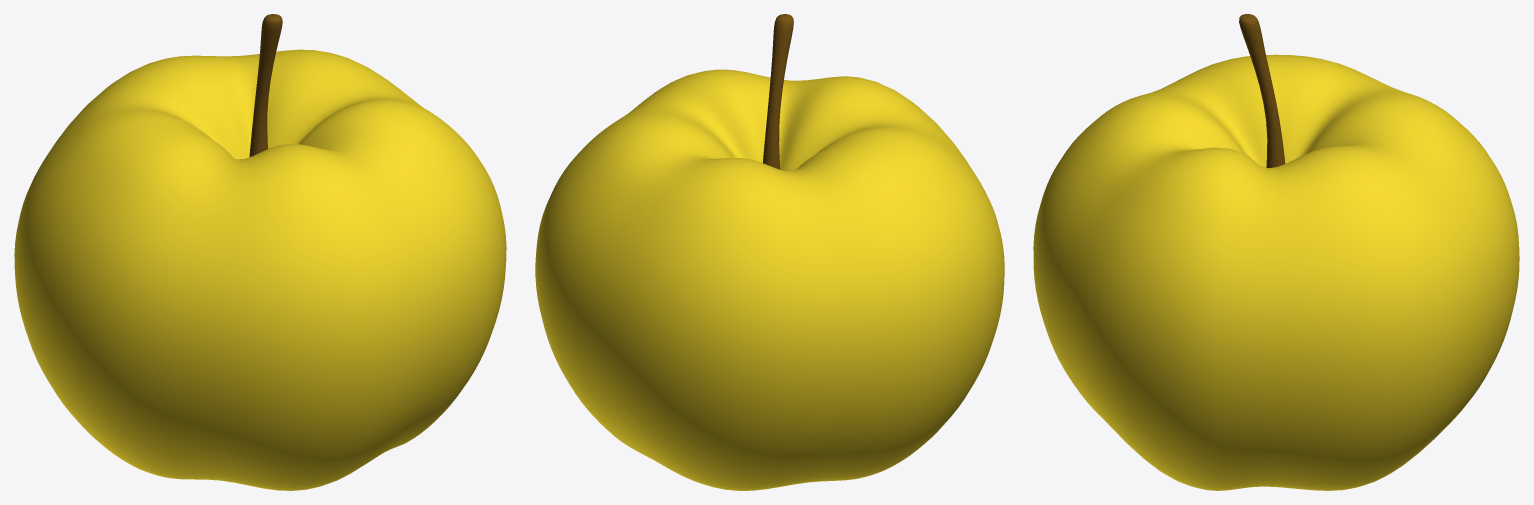
File: ApplegolD.fbx
The picture shows the model from 3 angles, left to right: view 1: azimuth 30°, elevation 25°; view 2: azimuth 150°, elevation 25°; view 3: azimuth 270°, elevation 25°; orthographic projection. The views are drawn at different scales.
Visible parts, largest first — view 1: Sphere; view 2: Sphere; view 3: Sphere.
Part boxes in pixels (<box>): Sphere: <box>14,14,506,490</box>; Sphere: <box>535,14,1004,490</box>; Sphere: <box>1033,14,1519,490</box>.
Bounding box in the file's own units: 223 × 219 × 226.
